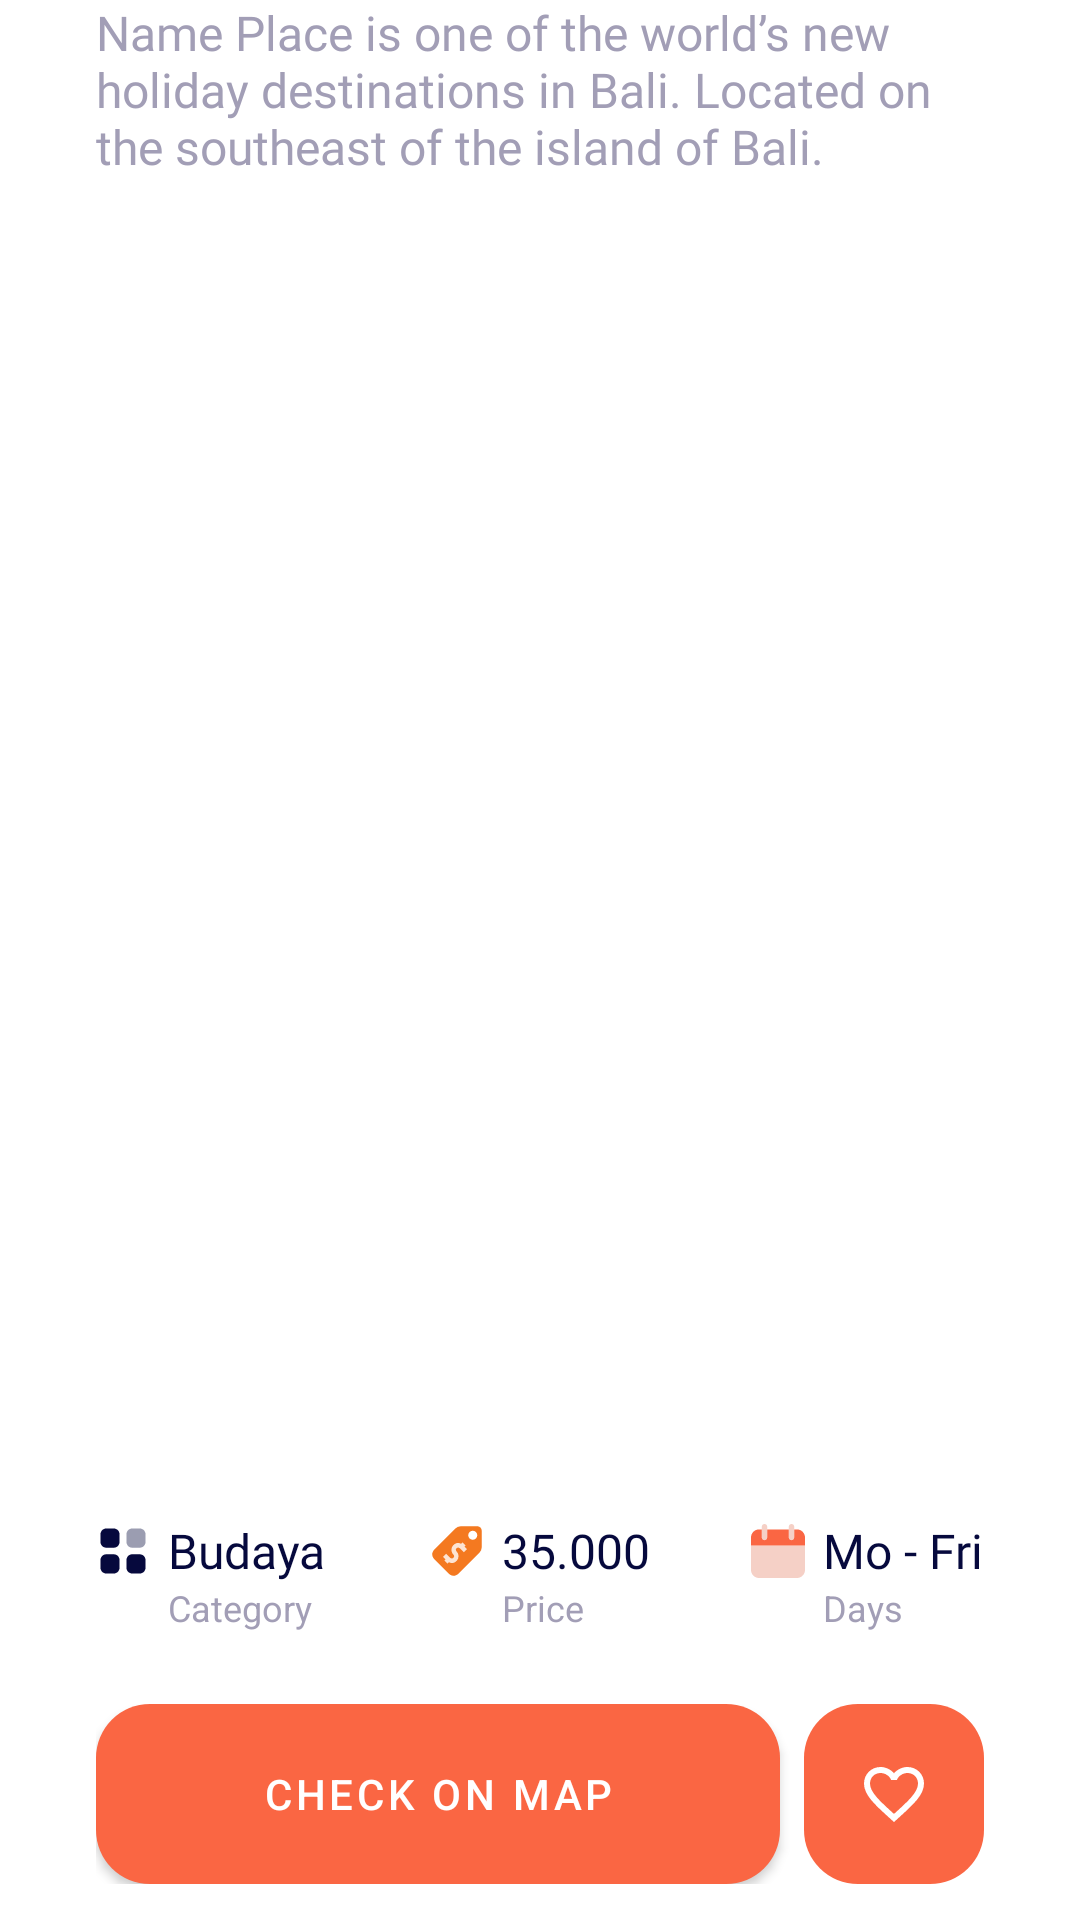

Named icons in this screenshot (1080x1920) and their bounding boxes, (x1, y1, x2, y2):
Button Favourite: (804, 1704, 984, 1884)
